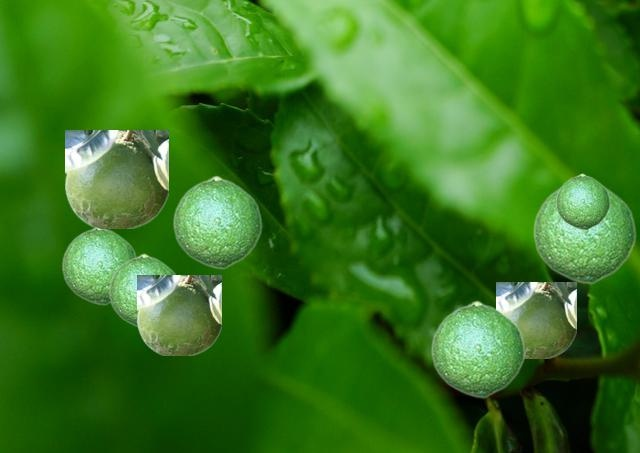dalandan: (532, 181, 635, 283), (65, 130, 167, 227), (430, 300, 524, 397), (172, 175, 261, 268), (137, 275, 220, 354), (496, 282, 575, 357), (61, 228, 136, 304), (108, 253, 176, 327), (555, 173, 609, 229)
